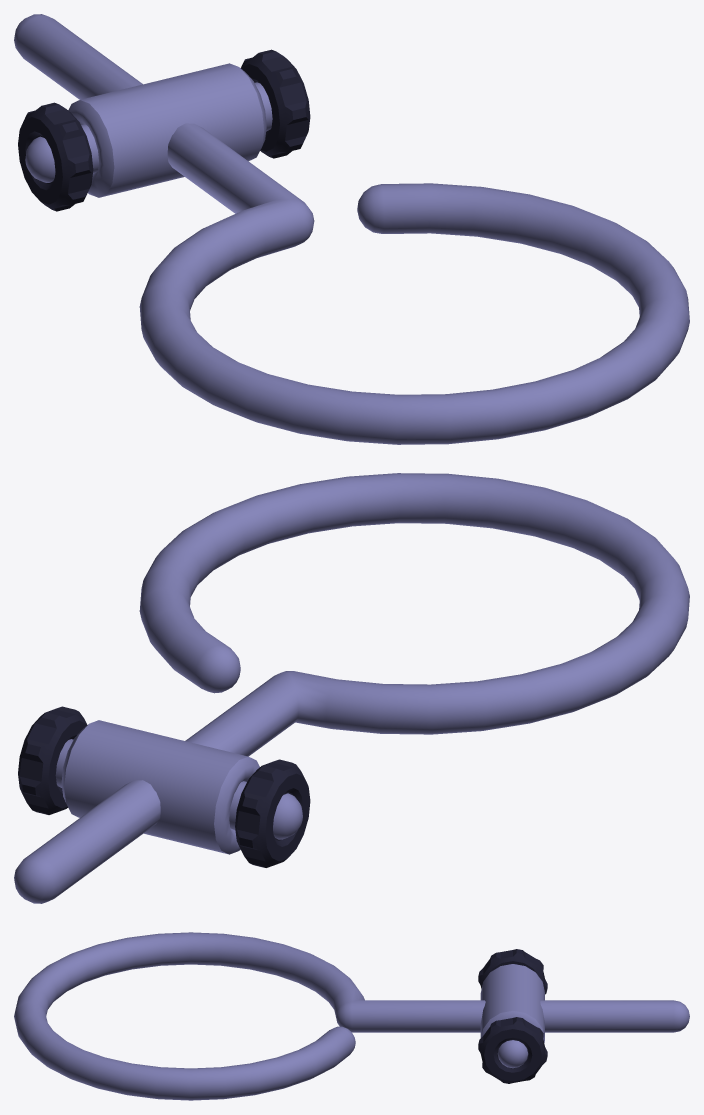
Rendered from LastLuna_Model_Station_Stand_Arm.fbx.
3 views of the same model, one above another, from view 1: azimuth 30°, elevation 25°; view 2: azimuth 150°, elevation 25°; view 3: azimuth 270°, elevation 25° (orthographic). The views are drawn at different scales.
Parts seen in each view (by area): view 1: Cylinder013, Stand_Pole_Fixture_Metal001, Stand_Pole_Fixture_Plastic001, Stand_Pole_Fixture_Plastic002, Stand_Pole_Fixture_Rod001; view 2: Cylinder013, Stand_Pole_Fixture_Metal001, Stand_Pole_Fixture_Plastic001, Stand_Pole_Fixture_Plastic002, Stand_Pole_Fixture_Rod001; view 3: Cylinder013, Stand_Pole_Fixture_Metal001, Stand_Pole_Fixture_Plastic002, Stand_Pole_Fixture_Plastic001, Stand_Pole_Fixture_Rod001.
Part boxes in pixels (<box>): Cylinder013: <box>14,14,689,444</box>; Stand_Pole_Fixture_Metal001: <box>68,63,266,197</box>; Stand_Pole_Fixture_Plastic001: <box>18,102,93,211</box>; Stand_Pole_Fixture_Plastic002: <box>241,49,310,158</box>; Stand_Pole_Fixture_Rod001: <box>25,82,272,182</box>; Cylinder013: <box>14,473,689,903</box>; Stand_Pole_Fixture_Metal001: <box>61,720,259,854</box>; Stand_Pole_Fixture_Plastic001: <box>235,759,310,867</box>; Stand_Pole_Fixture_Plastic002: <box>18,706,87,814</box>; Stand_Pole_Fixture_Rod001: <box>55,739,302,839</box>; Cylinder013: <box>14,932,689,1100</box>; Stand_Pole_Fixture_Metal001: <box>480,964,544,1042</box>; Stand_Pole_Fixture_Plastic002: <box>478,1017,547,1083</box>; Stand_Pole_Fixture_Plastic001: <box>478,949,547,994</box>; Stand_Pole_Fixture_Rod001: <box>497,1040,527,1068</box>.
Bounding box in the file's own units: 110 × 21.57 × 210.
